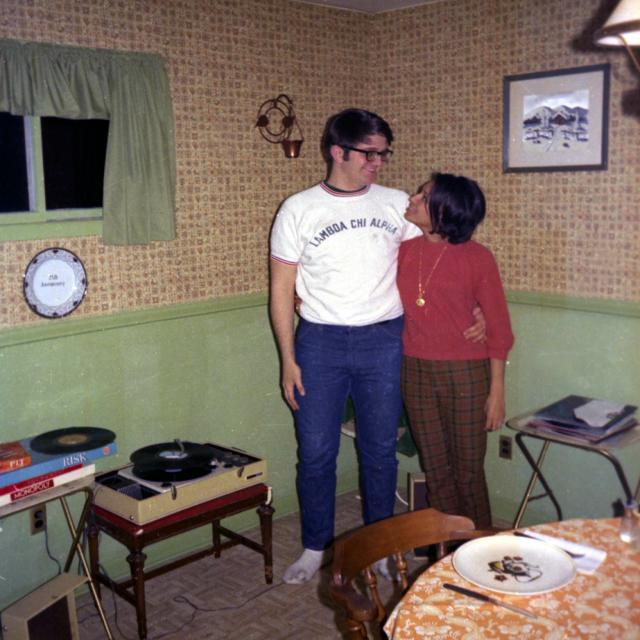chair: (326, 506, 475, 640)
desk: (514, 409, 638, 524)
person: (266, 106, 426, 606), (394, 174, 514, 525)
